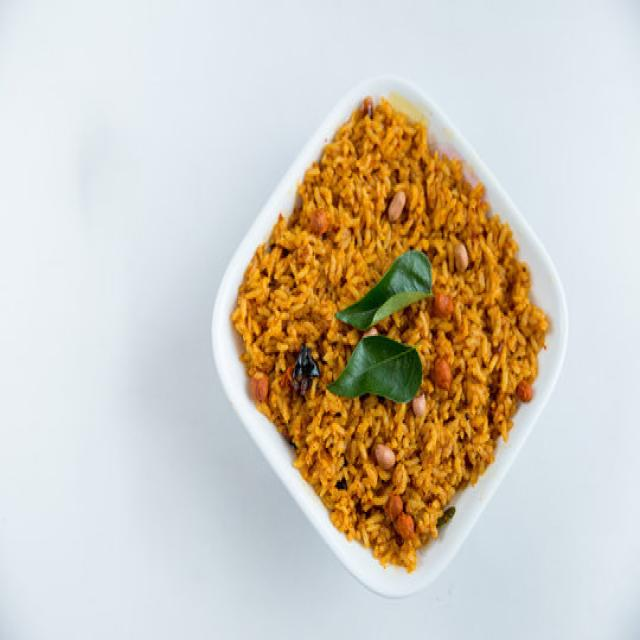puliyogare: (220, 77, 567, 592)
